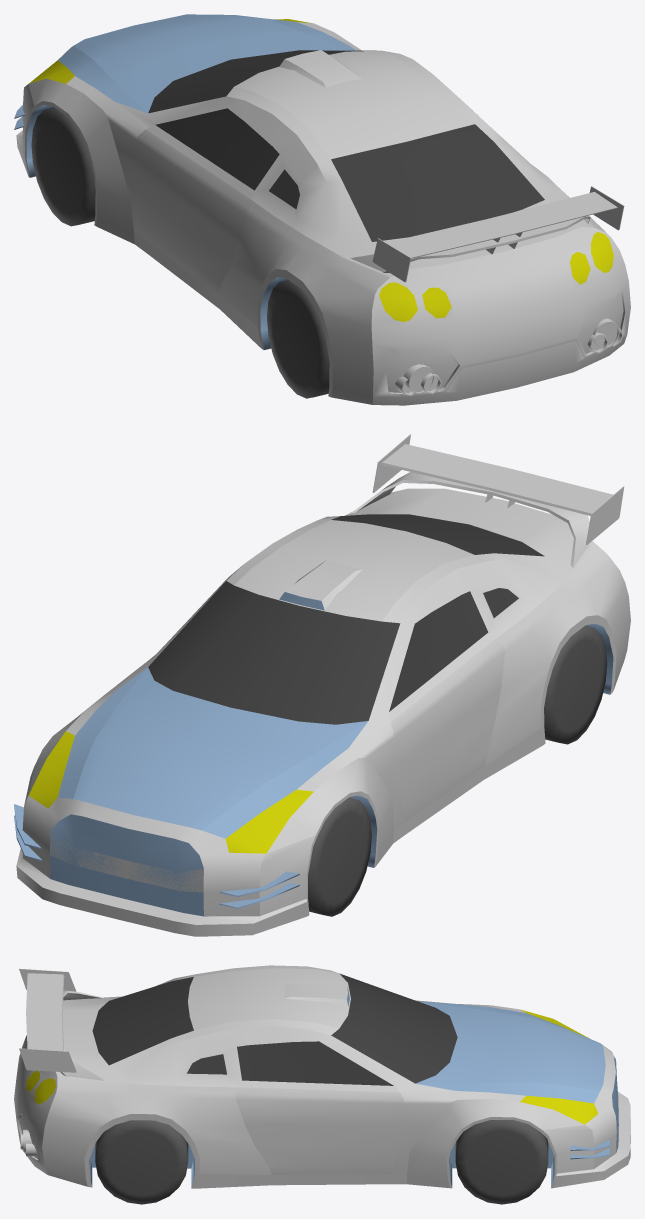
File: GTRV1.fbx
3 views of the same model, one above another, from view 1: azimuth 30°, elevation 25°; view 2: azimuth 150°, elevation 25°; view 3: azimuth 270°, elevation 25° (orthographic). The views are drawn at different scales.
Visible parts, largest first — view 1: SportCar, RearBumper2, Hood2, Spoiler2, Wheel2FL, Wheel1RL, RearBumper1, Roof2, SideSkirt1, Spoiler1, Frontumper1; view 2: SportCar, Hood2, Frontumper1, FrontBumper2, Spoiler2, Wheel2FL, Wheel1RL, Spoiler1, Roof2, SideSkirt1; view 3: SportCar, Hood2, Wheel2FR, Wheel1RR, FrontBumper2, Spoiler2, RearBumper2, SideSkirt1, Frontumper1, Roof2, Spoiler1.
Boxes of the visible parts, x1,y1,x2,y2 form: SportCar: [25, 19, 613, 404]; RearBumper2: [371, 227, 630, 405]; Hood2: [57, 14, 355, 113]; Spoiler2: [372, 186, 624, 282]; Wheel2FL: [31, 107, 95, 226]; Wheel1RL: [267, 280, 329, 398]; RearBumper1: [378, 274, 625, 402]; Roof2: [279, 50, 362, 87]; SideSkirt1: [134, 231, 260, 347]; Spoiler1: [350, 215, 590, 272]; Frontumper1: [16, 46, 72, 175]; SportCar: [28, 488, 630, 915]; Hood2: [57, 667, 368, 838]; Frontumper1: [16, 768, 315, 934]; FrontBumper2: [14, 775, 314, 936]; Spoiler2: [372, 434, 624, 544]; Wheel2FL: [308, 798, 371, 916]; Wheel1RL: [544, 625, 607, 744]; Spoiler1: [350, 472, 589, 567]; Roof2: [279, 560, 362, 610]; SideSkirt1: [393, 728, 542, 842]; SportCar: [26, 965, 598, 1188]; Hood2: [416, 1001, 605, 1103]; Wheel2FR: [455, 1120, 548, 1204]; Wheel1RR: [95, 1120, 188, 1204]; FrontBumper2: [543, 1086, 630, 1187]; Spoiler2: [19, 968, 76, 1072]; RearBumper2: [14, 1035, 57, 1174]; SideSkirt1: [196, 1173, 406, 1188]; Frontumper1: [545, 1044, 618, 1172]; Roof2: [283, 984, 349, 1007]; Spoiler1: [60, 990, 103, 1080].
Bounding box in the file's own units: 84.92 × 59.87 × 208.
